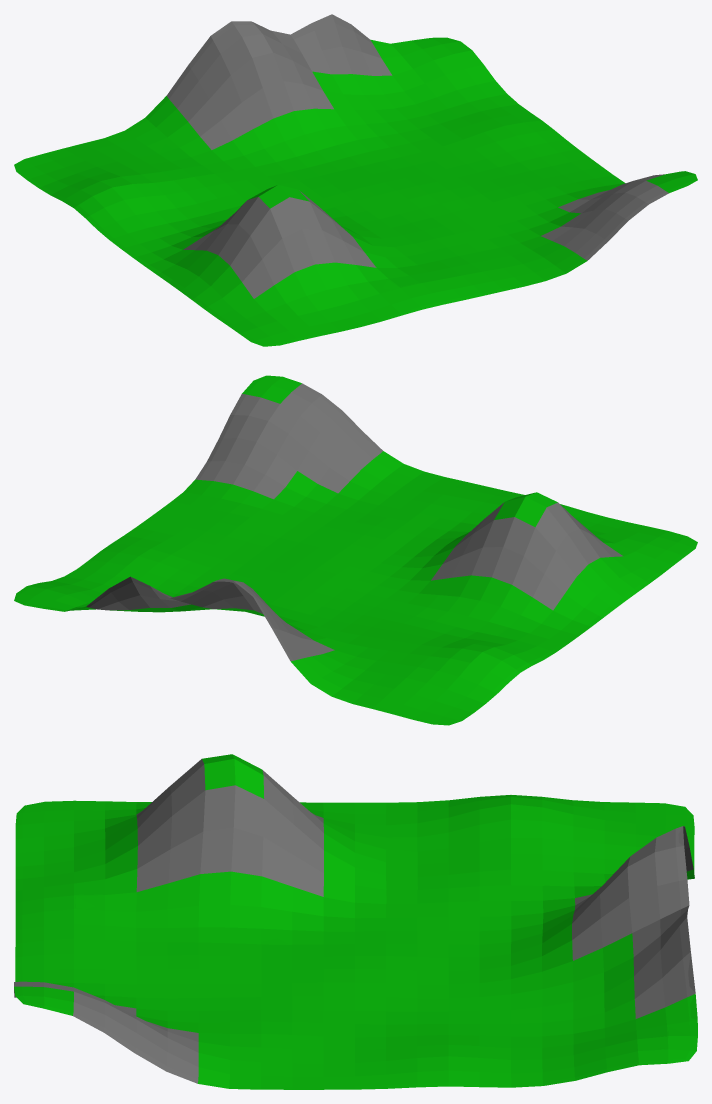
File: mesh_3subdiv.fbx
The picture shows the model from 3 angles, top to bottom: view 1: azimuth 30°, elevation 25°; view 2: azimuth 150°, elevation 25°; view 3: azimuth 270°, elevation 25°; orthographic projection. The views are drawn at different scales.
Parts seen in each view (by area): view 1: mesh_3subdiv; view 2: mesh_3subdiv; view 3: mesh_3subdiv.
Boxes of the visible parts, left/top/right/bottom form: mesh_3subdiv: left=14, top=14, right=697, bottom=346; mesh_3subdiv: left=14, top=375, right=697, bottom=725; mesh_3subdiv: left=14, top=754, right=697, bottom=1089.
Size of the model in its own units: 9931 by 1936 by 9957.
